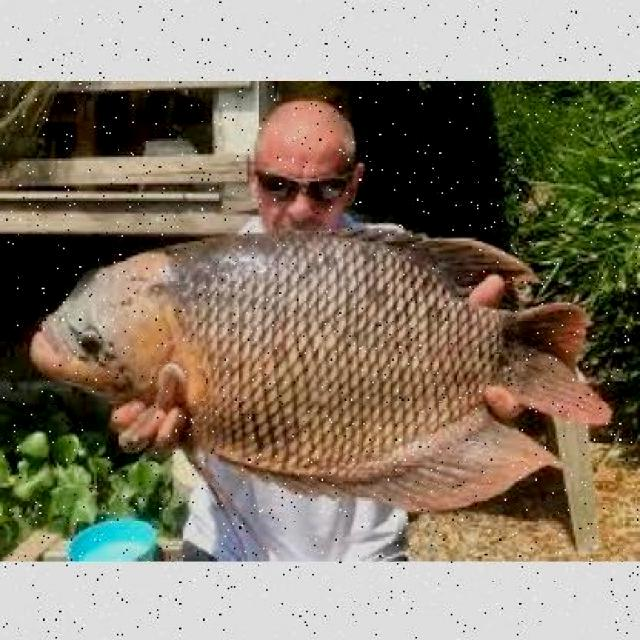gurame: (32, 220, 598, 497)
